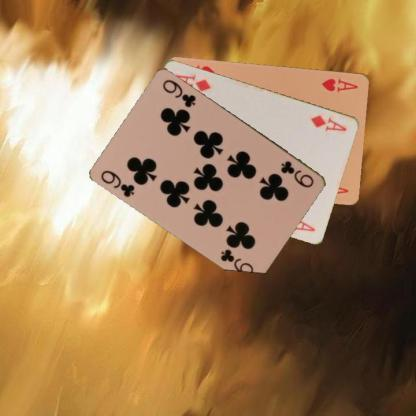9c: (98, 167, 136, 199), (278, 158, 315, 189)
Ad: (308, 112, 349, 132)
Ah: (318, 75, 360, 94)
